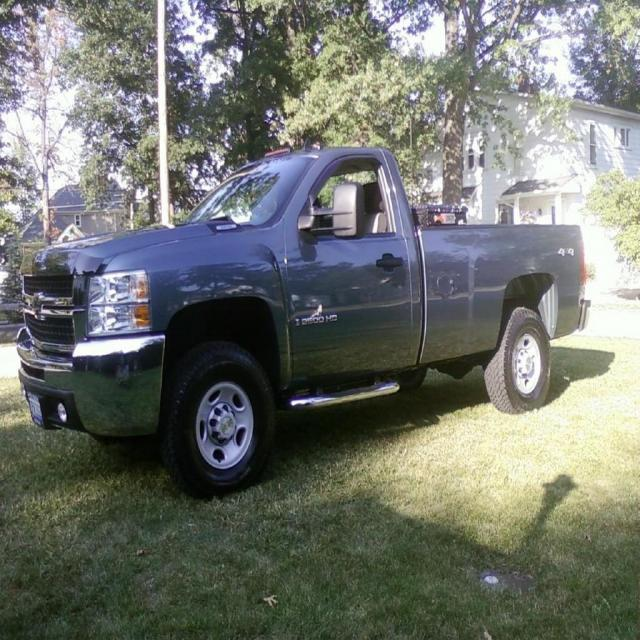car: (12, 142, 592, 486)
